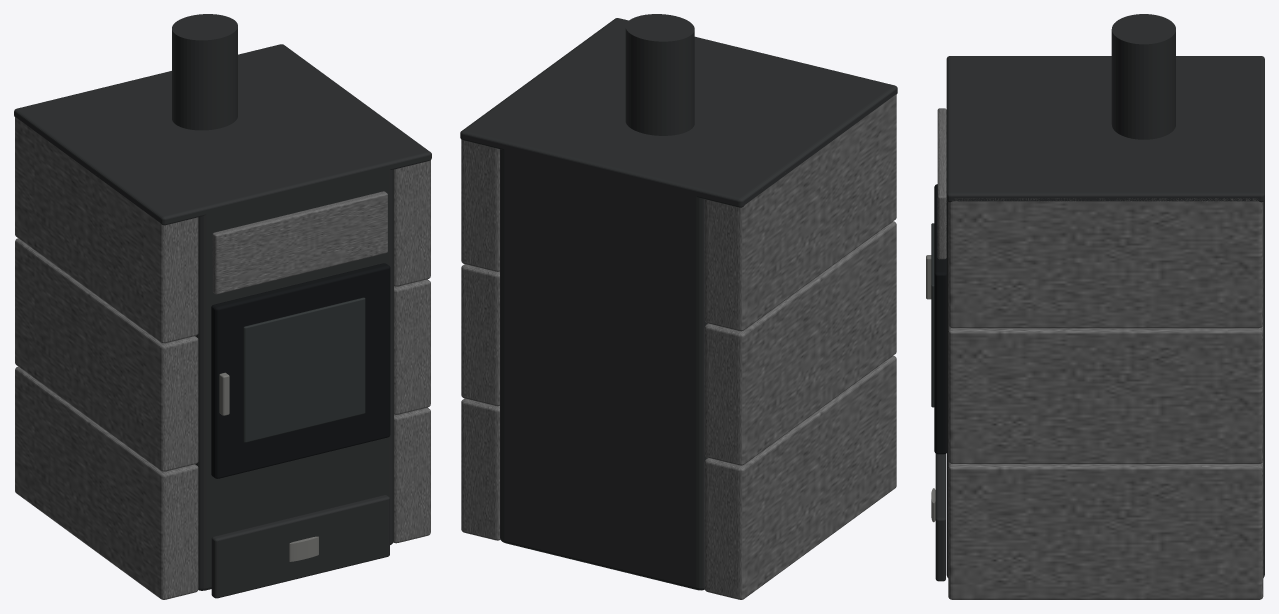
The model's file is nordica-termorossella-plus-dsa16-petr-pietra.glb.
The picture shows the model from 3 angles, left to right: view 1: azimuth 30°, elevation 25°; view 2: azimuth 150°, elevation 25°; view 3: azimuth 270°, elevation 25°; orthographic projection. The views are drawn at different scales.
Parts seen in each view (by area): view 1: Corpo.005, Pannello laterale.022, Pannello laterale.023, Pannello laterale.024, Coperchio.005, Porta.005, Vetro sportello.005, Pannello superiore.003, Cassetto cenere.005, Scarico fumi.005, Pannello laterale.026, Pannello laterale.025 (+2 smaller); view 2: Corpo.005, Pannello laterale.023, Pannello laterale.022, Pannello laterale.024, Coperchio.005, Scarico fumi.005, Pannello laterale.025, Pannello laterale.026, Pannello laterale.027; view 3: Pannello laterale.025, Pannello laterale.026, Pannello laterale.027, Corpo.005, Coperchio.005, Scarico fumi.005, Porta.005, Pannello superiore.003, Cassetto cenere.005, Vetro sportello.005.
Boxes of the visible parts, x1=… form: Corpo.005: x1=60, y1=56, x2=393, y2=590; Pannello laterale.022: x1=15, y1=366, x2=198, y2=599; Pannello laterale.023: x1=15, y1=238, x2=198, y2=471; Pannello laterale.024: x1=15, y1=117, x2=198, y2=343; Coperchio.005: x1=14, y1=44, x2=431, y2=225; Porta.005: x1=211, y1=263, x2=390, y2=478; Vetro sportello.005: x1=243, y1=297, x2=365, y2=442; Pannello superiore.003: x1=212, y1=191, x2=387, y2=294; Cassetto cenere.005: x1=211, y1=495, x2=389, y2=598; Scarico fumi.005: x1=172, y1=14, x2=237, y2=130; Pannello laterale.026: x1=394, y1=279, x2=430, y2=414; Pannello laterale.025: x1=393, y1=407, x2=430, y2=543; Corpo.005: x1=500, y1=39, x2=848, y2=590; Pannello laterale.023: x1=704, y1=221, x2=896, y2=465; Pannello laterale.022: x1=704, y1=355, x2=896, y2=599; Pannello laterale.024: x1=704, y1=94, x2=896, y2=331; Coperchio.005: x1=460, y1=18, x2=897, y2=207; Scarico fumi.005: x1=625, y1=14, x2=694, y2=135; Pannello laterale.025: x1=461, y1=398, x2=500, y2=540; Pannello laterale.026: x1=461, y1=264, x2=499, y2=406; Pannello laterale.027: x1=461, y1=139, x2=499, y2=271; Pannello laterale.025: x1=948, y1=461, x2=1263, y2=599; Pannello laterale.026: x1=948, y1=325, x2=1263, y2=463; Pannello laterale.027: x1=948, y1=198, x2=1263, y2=328; Corpo.005: x1=946, y1=77, x2=1264, y2=577; Coperchio.005: x1=946, y1=56, x2=1264, y2=202; Scarico fumi.005: x1=1111, y1=14, x2=1175, y2=139; Porta.005: x1=934, y1=184, x2=946, y2=454; Pannello superiore.003: x1=937, y1=108, x2=946, y2=259; Cassetto cenere.005: x1=935, y1=454, x2=945, y2=581; Vetro sportello.005: x1=931, y1=223, x2=934, y2=407.
Size of the model in its own units: 0.559 by 0.9473 by 0.5728.
5 materials, 1 textured.
